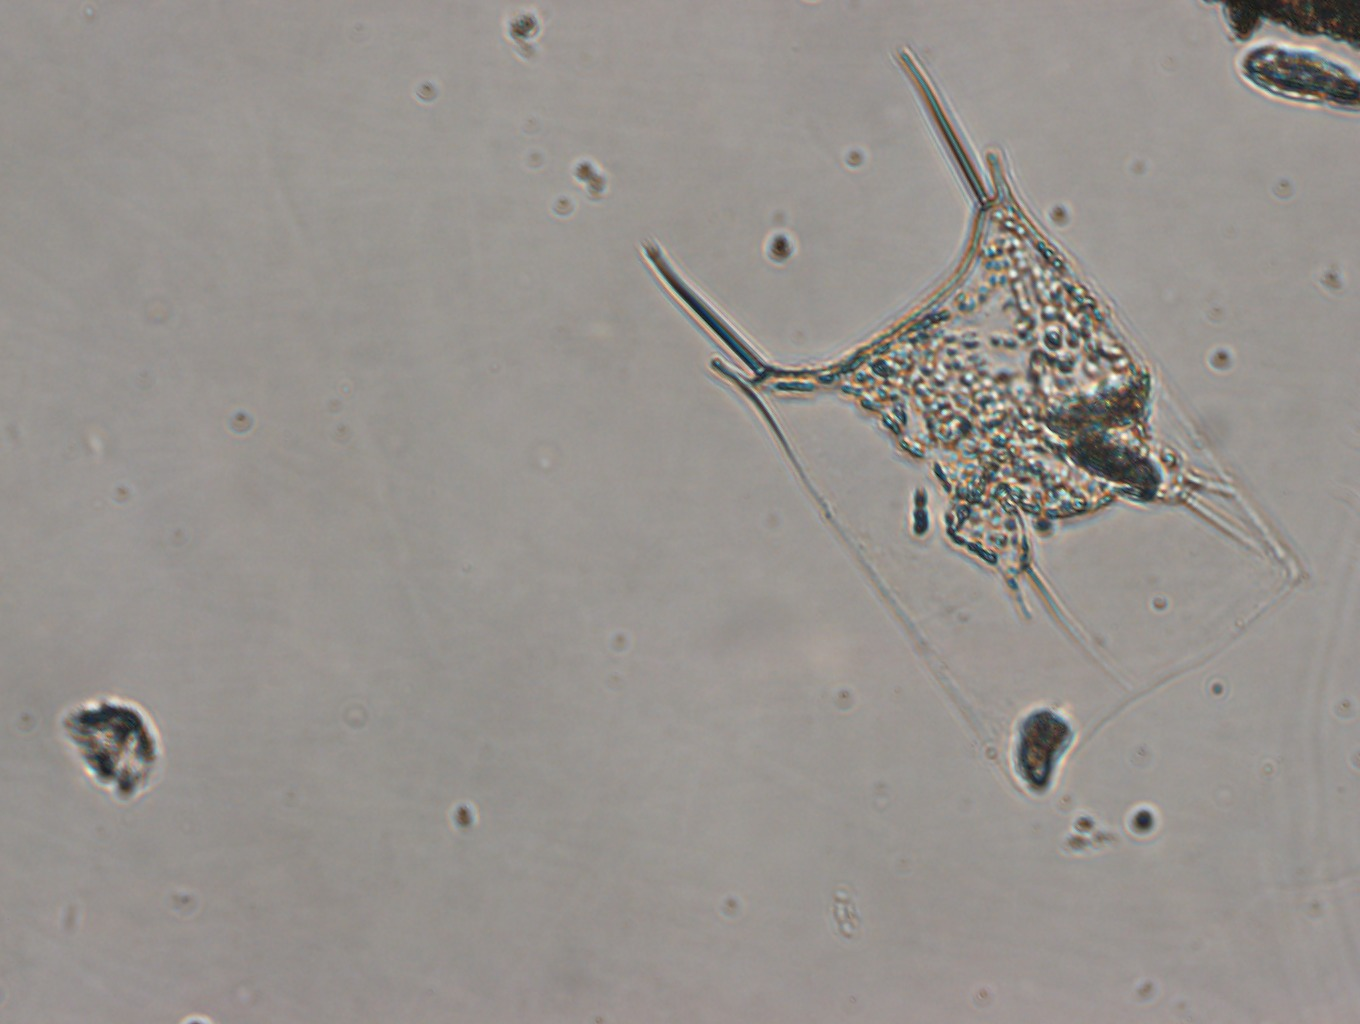biddulphia: (638, 43, 1308, 803)
